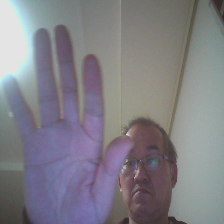hand: (4, 28, 130, 224)
